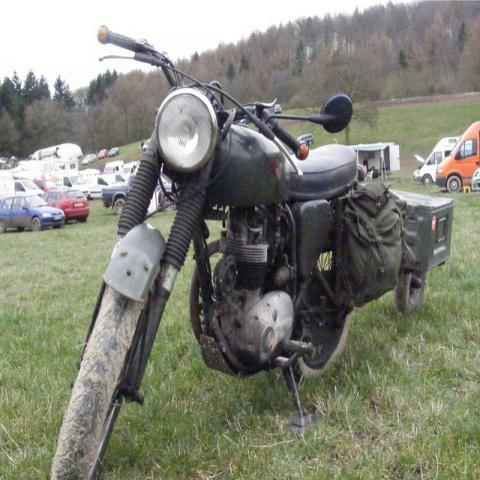car: (80, 134, 456, 198), (0, 193, 66, 232), (40, 188, 90, 225), (44, 172, 91, 197), (0, 178, 45, 204), (103, 159, 123, 174), (80, 150, 98, 166), (119, 162, 140, 174), (471, 168, 479, 192), (142, 139, 150, 152), (98, 149, 108, 159), (109, 147, 120, 156)
motorcycle: (49, 15, 365, 475)
truck: (436, 122, 479, 194), (103, 174, 176, 216), (412, 137, 462, 186)
